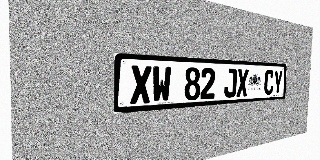2: (200, 68, 215, 99)
8: (184, 67, 201, 101)
C: (264, 70, 274, 95)
J: (224, 68, 237, 98)
W: (152, 66, 171, 103)
X: (130, 65, 152, 104), (236, 69, 249, 97)
Y: (273, 70, 283, 94)
